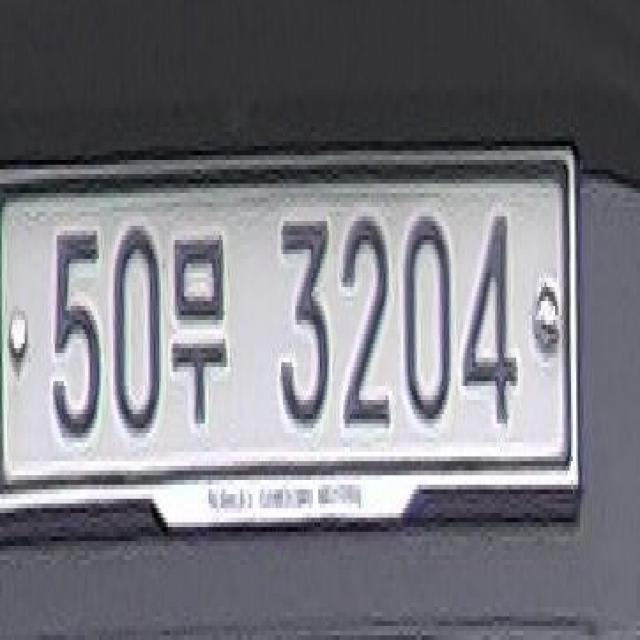0: (110, 223, 168, 447), (401, 210, 456, 438)
2: (338, 205, 393, 436)
3: (275, 212, 331, 439)
4: (462, 200, 526, 434)
5: (46, 222, 105, 458)
license_plate: (3, 146, 589, 514)
mu: (168, 221, 236, 436)
